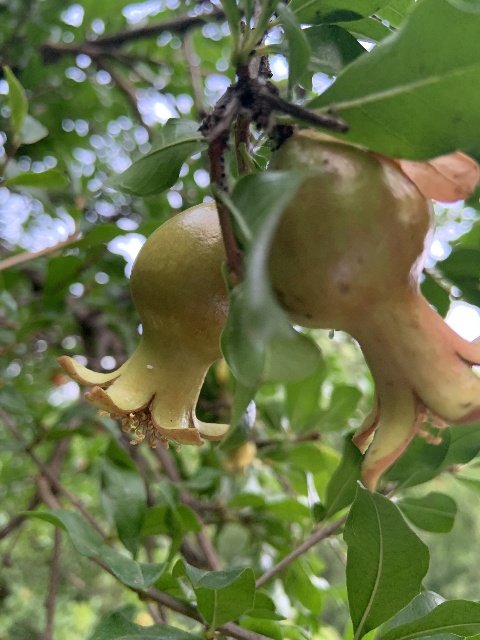early-fruit: (267, 140, 480, 489)
mid-growth: (54, 202, 241, 452)
